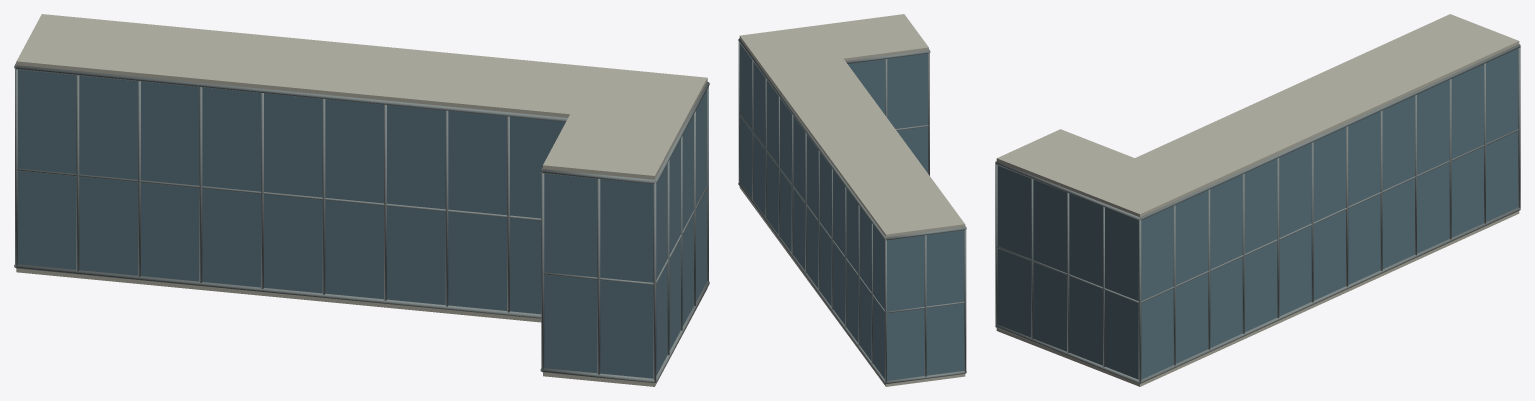
File: connector-v2-v3-lod1.glb
3 views of the same model, side by side, from view 1: azimuth 30°, elevation 25°; view 2: azimuth 150°, elevation 25°; view 3: azimuth 270°, elevation 25° (orthographic). The views are drawn at different scales.
Visible parts, largest first — view 1: connector-v2-v3_MATERIAL_BATCH; view 2: connector-v2-v3_MATERIAL_BATCH; view 3: connector-v2-v3_MATERIAL_BATCH.
Part boxes in pixels (x1,y1,x2,y2): connector-v2-v3_MATERIAL_BATCH: (14, 14, 709, 386); connector-v2-v3_MATERIAL_BATCH: (738, 14, 966, 386); connector-v2-v3_MATERIAL_BATCH: (995, 14, 1520, 386).
Bounding box in the file's own units: 13.18 × 5.27 × 14.52.
